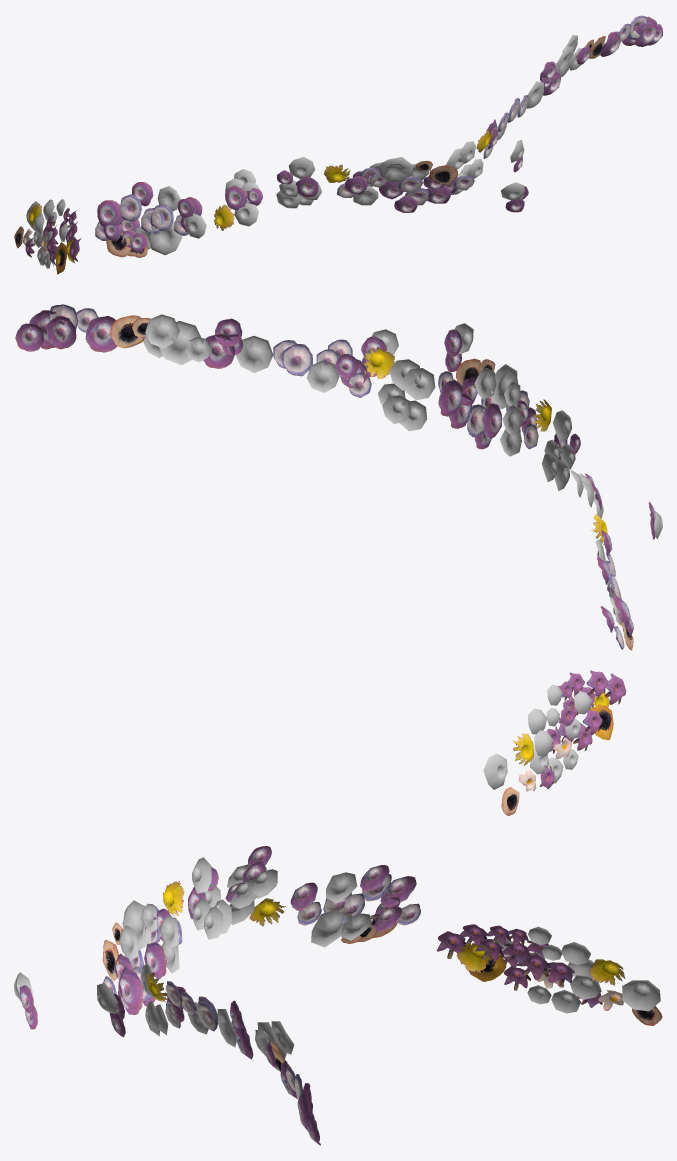
Rendered from Left_Flower9.fbx.
3 views of the same model, one above another, from view 1: azimuth 30°, elevation 25°; view 2: azimuth 150°, elevation 25°; view 3: azimuth 270°, elevation 25° (orthographic). The views are drawn at different scales.
Visible parts, largest first — view 1: Circle.1253, Circle.2276, Circle.1237, Circle.1249, Circle.2326, Circle.1235, Circle.1269, Circle.2252, Circle.2286, Circle.1271, Circle.1279, Circle.1229 (+2 smaller); view 2: Circle.2325, Circle.2320, Circle.2309, Circle.2311, Circle.2314, Circle.2327, Circle.2324, Circle.2315, Circle.2296; view 3: Circle.1127, Circle.1253, Circle.2265, Circle.2276, Circle.1237, Circle.1257, Circle.1161, Circle.1159, Circle.2271, Circle.1228, Circle.1178, Circle.2251 (+21 smaller).
Boxes of the visible parts, box(x1,y1,x2,y2) form: Circle.1253: box(148, 220, 182, 255); Circle.2276: box(378, 157, 412, 182); Circle.1237: box(97, 200, 122, 226); Circle.1249: box(119, 194, 141, 221); Circle.2326: box(634, 16, 656, 46); Circle.1235: box(151, 204, 173, 230); Circle.1269: box(225, 186, 247, 210); Circle.2252: box(429, 165, 457, 185); Circle.2286: box(288, 157, 315, 178); Circle.1271: box(234, 203, 258, 226); Circle.1279: box(185, 213, 206, 238); Circle.1229: box(106, 231, 131, 257); Circle.2325: box(235, 336, 273, 372); Circle.2320: box(158, 321, 203, 365); Circle.2309: box(85, 316, 121, 352); Circle.2311: box(145, 314, 179, 348); Circle.2314: box(282, 344, 312, 376); Circle.2327: box(402, 368, 435, 400); Circle.2324: box(307, 360, 339, 392); Circle.2315: box(46, 316, 76, 349); Circle.2296: box(110, 315, 144, 348); Circle.1127: box(622, 980, 660, 1011); Circle.1253: box(311, 908, 352, 947); Circle.2265: box(118, 966, 143, 1008); Circle.2276: box(122, 900, 150, 950); Circle.1237: box(380, 876, 416, 907); Circle.1257: box(326, 872, 357, 902); Circle.1161: box(456, 943, 492, 972); Circle.1159: box(589, 959, 625, 985); Circle.2271: box(144, 942, 166, 979); Circle.1228: box(249, 898, 285, 926); Circle.1178: box(570, 975, 601, 999); Circle.2251: box(163, 881, 184, 917).
Size of the model in its own units: 356 by 130 by 267.
